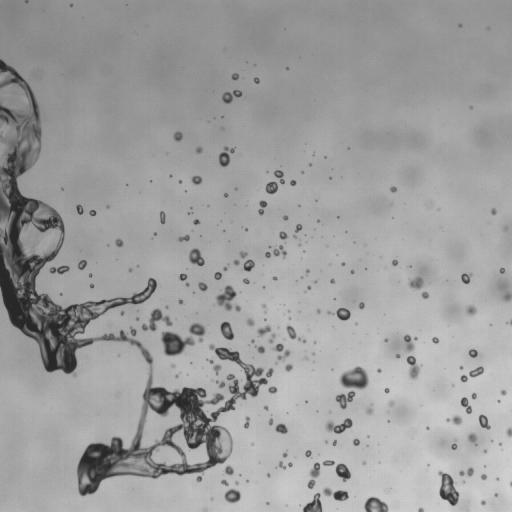droplet: (160, 322, 207, 356), (334, 366, 369, 409), (437, 470, 459, 506), (141, 307, 173, 331), (213, 285, 241, 312), (302, 491, 323, 511), (363, 496, 388, 511), (335, 462, 351, 482), (188, 248, 204, 267), (220, 321, 234, 341), (222, 90, 242, 103), (224, 488, 241, 503), (408, 276, 423, 290), (445, 415, 462, 425), (265, 181, 278, 194), (459, 466, 474, 477), (241, 259, 254, 271), (178, 273, 189, 287), (465, 304, 477, 316), (467, 432, 477, 446), (461, 272, 472, 284), (275, 423, 287, 434), (225, 80, 236, 91), (19, 96, 30, 107), (38, 120, 49, 131), (0, 122, 11, 133), (15, 174, 26, 185), (18, 185, 29, 196), (182, 222, 193, 233), (282, 238, 293, 249), (182, 240, 193, 251), (252, 253, 263, 264), (204, 262, 215, 273), (333, 267, 344, 278), (187, 273, 198, 284), (220, 274, 231, 285), (204, 275, 215, 286), (34, 283, 45, 294), (178, 286, 189, 297), (143, 299, 154, 310), (222, 310, 233, 321), (155, 320, 166, 331), (83, 326, 94, 337), (178, 328, 189, 339), (151, 329, 162, 340), (135, 330, 146, 341), (276, 330, 287, 341), (257, 334, 268, 345), (216, 336, 227, 347), (282, 337, 293, 348), (27, 338, 38, 349), (225, 339, 236, 350), (73, 347, 84, 358), (265, 348, 276, 359), (467, 357, 478, 368), (223, 359, 234, 370), (342, 361, 353, 372), (273, 363, 284, 374), (365, 369, 376, 380), (201, 403, 212, 414), (215, 415, 226, 426), (458, 422, 469, 433), (457, 436, 468, 447), (99, 477, 110, 488), (334, 479, 345, 490), (320, 495, 331, 506), (173, 131, 183, 142), (191, 175, 202, 185), (468, 348, 479, 358), (222, 465, 233, 475), (0, 219, 10, 230), (365, 403, 374, 415), (77, 260, 87, 270), (275, 460, 286, 469), (177, 234, 189, 242), (198, 282, 207, 292), (502, 291, 511, 301), (279, 231, 288, 240), (284, 363, 293, 372), (183, 178, 192, 187), (262, 192, 271, 201), (59, 212, 68, 221), (285, 226, 294, 235), (49, 258, 58, 267), (68, 261, 77, 270), (303, 275, 312, 284), (123, 302, 132, 311), (141, 314, 150, 323), (167, 324, 176, 333), (156, 341, 165, 350), (170, 353, 179, 362), (54, 368, 63, 377), (217, 371, 226, 380), (332, 371, 341, 380), (266, 376, 275, 385), (137, 382, 146, 391), (257, 384, 266, 393), (340, 385, 349, 394), (222, 390, 231, 399), (470, 409, 479, 418), (333, 416, 342, 425), (327, 430, 336, 439), (499, 432, 508, 441), (121, 440, 130, 449), (74, 449, 83, 458), (310, 453, 319, 462), (214, 462, 223, 471), (451, 473, 460, 482), (499, 477, 508, 486), (313, 483, 322, 492), (76, 204, 83, 215), (115, 238, 123, 247), (246, 317, 254, 326), (268, 386, 277, 394), (505, 265, 511, 276), (445, 505, 456, 511), (214, 272, 222, 280), (421, 291, 429, 299), (505, 427, 511, 437), (231, 73, 239, 80), (389, 186, 397, 193), (239, 251, 247, 258), (222, 263, 229, 271), (352, 438, 359, 446), (305, 450, 312, 458), (220, 479, 228, 486), (0, 70, 5, 81), (0, 143, 5, 154), (0, 156, 5, 167), (0, 300, 5, 311), (195, 146, 202, 153), (89, 209, 96, 216), (391, 259, 398, 266), (480, 473, 487, 480), (4, 58, 11, 65), (34, 95, 41, 102), (36, 104, 43, 111), (39, 132, 46, 139), (283, 175, 290, 182), (82, 206, 89, 213), (238, 257, 245, 264), (44, 260, 51, 267), (242, 270, 249, 277), (409, 272, 416, 279), (402, 279, 409, 286), (419, 285, 426, 292), (415, 288, 422, 295), (124, 291, 131, 298), (75, 297, 82, 304), (230, 297, 237, 304), (473, 302, 480, 309), (120, 303, 127, 310), (218, 304, 225, 311), (113, 305, 120, 312), (459, 307, 466, 314), (160, 309, 167, 316), (472, 312, 479, 319), (191, 316, 198, 323), (197, 318, 204, 325), (258, 321, 265, 328), (203, 325, 210, 332), (12, 326, 19, 333), (135, 326, 142, 333), (294, 328, 301, 335), (281, 330, 288, 337), (263, 331, 270, 338), (74, 332, 81, 339), (305, 338, 312, 345), (399, 339, 406, 346), (122, 340, 129, 347), (142, 342, 149, 349), (263, 343, 270, 350), (311, 344, 318, 351), (254, 351, 261, 358), (401, 351, 408, 358), (138, 355, 145, 362), (213, 356, 220, 363), (284, 356, 291, 363), (278, 360, 285, 367), (37, 362, 44, 369), (347, 363, 354, 370), (360, 363, 367, 370), (417, 369, 424, 376), (151, 381, 158, 388), (190, 382, 197, 389), (166, 385, 173, 392), (351, 385, 358, 392), (205, 393, 212, 400), (235, 396, 242, 403), (137, 397, 144, 404), (467, 398, 474, 405), (218, 399, 225, 406), (210, 404, 217, 411), (134, 409, 141, 416), (218, 411, 225, 418), (319, 422, 326, 429), (332, 432, 339, 439), (91, 437, 98, 444), (104, 439, 111, 446), (319, 464, 326, 471), (204, 467, 211, 474), (472, 470, 479, 477), (167, 471, 174, 478), (190, 471, 197, 478), (71, 473, 78, 480), (159, 473, 166, 480), (223, 473, 230, 480), (304, 474, 311, 481), (237, 476, 244, 483), (71, 481, 78, 488), (228, 482, 235, 489), (453, 483, 460, 490), (221, 485, 228, 492), (330, 485, 337, 492), (72, 487, 79, 494), (84, 492, 91, 499), (456, 497, 463, 504), (505, 318, 511, 326), (506, 388, 511, 397), (479, 506, 488, 511), (253, 77, 259, 84), (290, 179, 296, 186), (491, 208, 497, 215), (193, 219, 200, 225), (233, 259, 240, 265), (499, 266, 505, 273), (242, 278, 249, 284), (178, 298, 184, 305), (358, 302, 364, 309), (432, 337, 439, 343), (388, 400, 394, 407), (305, 268, 310, 276), (282, 214, 288, 220), (502, 225, 508, 231), (500, 389, 506, 395), (471, 392, 476, 399), (332, 439, 337, 446), (282, 450, 287, 457), (89, 283, 94, 289), (316, 308, 321, 314), (395, 353, 400, 359), (384, 387, 389, 393), (480, 500, 486, 505), (507, 286, 511, 293), (507, 421, 511, 428), (386, 507, 393, 511), (330, 278, 335, 283), (286, 309, 291, 314), (170, 363, 175, 368), (376, 368, 381, 373), (263, 405, 268, 410), (231, 68, 236, 73), (17, 70, 22, 75), (258, 76, 263, 81), (236, 77, 241, 82), (9, 82, 14, 87), (30, 86, 35, 91), (32, 91, 37, 96), (231, 95, 236, 100), (1, 102, 6, 107), (224, 102, 229, 107), (6, 104, 11, 109), (38, 114, 43, 119), (215, 114, 220, 119), (172, 127, 177, 132), (178, 127, 183, 132), (181, 134, 186, 139), (169, 136, 174, 141), (179, 138, 184, 143), (174, 140, 179, 145), (194, 142, 199, 147), (227, 143, 232, 148), (191, 145, 196, 150), (201, 147, 206, 152), (219, 147, 224, 152), (39, 148, 44, 153), (197, 152, 202, 157), (214, 152, 219, 157), (215, 161, 220, 166), (227, 161, 232, 166), (191, 171, 196, 176), (196, 171, 201, 176), (281, 174, 286, 179), (274, 177, 279, 182), (189, 181, 194, 186), (261, 182, 266, 187), (276, 182, 281, 187), (195, 183, 200, 188), (288, 184, 293, 189), (292, 184, 297, 189), (386, 189, 391, 194), (274, 190, 279, 195), (392, 191, 397, 196), (271, 192, 276, 197), (34, 195, 39, 200), (256, 204, 261, 209), (262, 206, 267, 211), (495, 207, 500, 212), (486, 209, 491, 214), (190, 215, 195, 220), (155, 216, 160, 221), (164, 216, 169, 221), (63, 225, 68, 230), (180, 231, 185, 236), (274, 233, 279, 238), (113, 234, 118, 239), (121, 237, 126, 242), (278, 238, 283, 243), (293, 238, 298, 243), (122, 240, 127, 245), (110, 241, 115, 246), (300, 244, 305, 249), (114, 245, 119, 250), (282, 245, 287, 250), (297, 246, 302, 251), (268, 248, 273, 253), (260, 250, 265, 255), (199, 252, 204, 257), (278, 252, 283, 257), (243, 255, 248, 260), (262, 256, 267, 261), (185, 258, 190, 263), (192, 262, 197, 267), (229, 262, 234, 267), (238, 263, 243, 268), (131, 265, 136, 270), (217, 267, 222, 272), (180, 268, 185, 273), (300, 270, 305, 275), (419, 273, 424, 278), (34, 275, 39, 280), (153, 275, 158, 280), (469, 276, 474, 281), (88, 278, 93, 283), (155, 280, 160, 285), (459, 281, 464, 286), (142, 282, 147, 287), (309, 282, 314, 287), (154, 286, 159, 291), (232, 286, 237, 291), (137, 287, 142, 292), (195, 287, 200, 292), (203, 289, 208, 294), (219, 289, 224, 294), (427, 290, 432, 295), (500, 290, 505, 295), (104, 295, 109, 300), (95, 296, 100, 301), (423, 297, 428, 302), (212, 298, 217, 303), (261, 298, 266, 303), (70, 299, 75, 304), (354, 300, 359, 305), (136, 302, 141, 307), (265, 302, 270, 307), (61, 304, 66, 309), (284, 304, 289, 309), (230, 306, 235, 311), (108, 307, 113, 312), (258, 307, 263, 312), (331, 307, 336, 312), (320, 309, 325, 314), (288, 311, 293, 316), (349, 312, 354, 317), (332, 313, 337, 318), (98, 314, 103, 319), (168, 316, 173, 321), (224, 317, 229, 322), (337, 318, 342, 323), (88, 319, 93, 324), (241, 319, 246, 324), (341, 319, 346, 324), (144, 320, 149, 325), (216, 321, 221, 326), (288, 321, 293, 326), (229, 322, 234, 327), (185, 323, 190, 328), (291, 323, 296, 328), (84, 324, 89, 329), (215, 324, 220, 329), (270, 327, 275, 332), (146, 328, 151, 333), (216, 328, 221, 333), (231, 328, 236, 333), (105, 329, 110, 334), (98, 331, 103, 336), (400, 331, 405, 336), (114, 332, 119, 337), (126, 333, 131, 338), (201, 333, 206, 338), (22, 334, 27, 339), (132, 335, 137, 340), (292, 337, 297, 342), (102, 339, 107, 344), (106, 339, 111, 344), (92, 340, 97, 345), (272, 340, 277, 345), (298, 341, 303, 346), (84, 344, 89, 349), (132, 344, 137, 349), (468, 344, 473, 349), (282, 345, 287, 350), (252, 347, 257, 352), (279, 350, 284, 355), (406, 351, 411, 356), (238, 354, 243, 359), (308, 354, 313, 359), (151, 359, 156, 364), (143, 361, 148, 366), (208, 363, 213, 368), (253, 363, 258, 368), (406, 363, 411, 368), (73, 367, 78, 372), (173, 368, 178, 373), (289, 368, 294, 373), (464, 371, 469, 376), (66, 372, 71, 377), (260, 372, 265, 377), (212, 374, 217, 379), (476, 374, 481, 379), (143, 375, 148, 380), (265, 376, 270, 381), (408, 377, 413, 382), (502, 385, 507, 390), (505, 390, 510, 395), (245, 392, 250, 397), (270, 392, 275, 397), (475, 393, 480, 398), (498, 394, 503, 399), (330, 395, 335, 400), (351, 395, 356, 400), (456, 396, 461, 401), (334, 401, 339, 406), (345, 401, 350, 406), (456, 401, 461, 406), (227, 408, 232, 413), (205, 412, 210, 417), (362, 412, 367, 417), (367, 414, 372, 419), (448, 414, 453, 419), (264, 416, 269, 421), (350, 417, 355, 422), (241, 418, 246, 423), (248, 419, 253, 424), (280, 419, 285, 424), (487, 420, 492, 425), (272, 421, 277, 426), (475, 422, 480, 427), (284, 423, 289, 428), (350, 424, 355, 429), (344, 427, 349, 432), (466, 429, 471, 434), (276, 431, 281, 436), (502, 431, 507, 436), (114, 432, 119, 437), (230, 433, 235, 438), (463, 434, 468, 439), (327, 439, 332, 444), (493, 439, 498, 444), (348, 440, 353, 445), (469, 441, 474, 446), (231, 443, 236, 448), (286, 450, 291, 455), (310, 451, 315, 456), (323, 455, 328, 460), (317, 458, 322, 463), (273, 460, 278, 465), (282, 460, 287, 465), (331, 463, 336, 468), (308, 464, 313, 469), (277, 466, 282, 471), (347, 466, 352, 471), (462, 467, 467, 472), (232, 469, 237, 474), (482, 469, 487, 474), (332, 471, 337, 476), (183, 472, 188, 477), (121, 474, 126, 479), (128, 474, 133, 479), (137, 475, 142, 480), (436, 475, 441, 480), (147, 476, 152, 481), (313, 476, 318, 481), (337, 476, 342, 481), (345, 477, 350, 482), (303, 479, 308, 484), (436, 482, 441, 487), (225, 485, 230, 490), (233, 485, 238, 490), (434, 489, 439, 494), (371, 492, 376, 497), (239, 493, 244, 498), (435, 493, 440, 498), (328, 494, 333, 499), (220, 495, 225, 500), (457, 495, 462, 500), (362, 496, 367, 501), (379, 496, 384, 501), (307, 497, 312, 502), (335, 499, 340, 504), (443, 499, 448, 504), (234, 500, 239, 505), (301, 501, 306, 506), (484, 502, 489, 507), (320, 503, 325, 508), (312, 279, 318, 283), (303, 356, 309, 360), (324, 439, 328, 445), (0, 295, 3, 302), (350, 269, 354, 274), (272, 276, 277, 280), (120, 310, 124, 315), (288, 462, 292, 467), (235, 480, 239, 485), (494, 492, 498, 497), (418, 507, 423, 511), (69, 3, 73, 7), (458, 23, 462, 27), (469, 105, 473, 109), (178, 179, 182, 183), (224, 193, 228, 197), (244, 227, 248, 231), (341, 262, 345, 266), (128, 268, 132, 272), (135, 317, 139, 321), (384, 338, 388, 342), (459, 365, 463, 369), (498, 442, 502, 446), (483, 449, 487, 453), (362, 461, 366, 465), (266, 473, 270, 477), (495, 477, 499, 481), (461, 479, 465, 483), (106, 204, 109, 209), (282, 337, 287, 340), (508, 298, 511, 303), (508, 435, 511, 440), (298, 508, 303, 511), (361, 508, 366, 511), (413, 508, 418, 511), (422, 508, 427, 511), (220, 127, 224, 130), (300, 171, 304, 174), (297, 204, 301, 207), (153, 232, 157, 235), (106, 243, 109, 247), (89, 273, 92, 277), (262, 285, 265, 289), (192, 291, 195, 295), (165, 305, 168, 309), (288, 316, 291, 320), (354, 322, 358, 325), (313, 340, 316, 344), (311, 352, 315, 355), (189, 361, 193, 364), (426, 426, 429, 430), (427, 463, 430, 467), (245, 479, 249, 482), (210, 497, 213, 501), (266, 501, 269, 505), (203, 508, 207, 511), (68, 0, 73, 2), (25, 0, 28, 3), (486, 26, 489, 29), (286, 67, 289, 70), (308, 163, 311, 166), (169, 174, 172, 177), (329, 176, 332, 179), (234, 187, 237, 190), (136, 264, 139, 267), (364, 267, 367, 270), (300, 276, 303, 279), (59, 292, 62, 295), (489, 323, 492, 326), (307, 328, 310, 331), (117, 354, 120, 357), (312, 360, 315, 363), (451, 384, 454, 387), (305, 400, 308, 403), (497, 400, 500, 403), (328, 410, 331, 413), (387, 420, 390, 423), (366, 435, 369, 438), (366, 444, 369, 447), (238, 473, 241, 476), (66, 4, 69, 7), (71, 5, 74, 8), (458, 20, 461, 23), (461, 23, 464, 26), (457, 26, 460, 29), (288, 65, 291, 68), (285, 69, 288, 72), (235, 70, 238, 73), (255, 74, 258, 77), (228, 75, 231, 78), (238, 75, 241, 78), (232, 79, 235, 82), (253, 82, 256, 85), (229, 90, 232, 93), (241, 92, 244, 95), (220, 112, 223, 115), (223, 114, 226, 117), (233, 148, 236, 151), (309, 151, 312, 154), (314, 152, 317, 155), (323, 152, 326, 155), (326, 155, 329, 158), (321, 157, 324, 160), (311, 162, 314, 165), (305, 163, 308, 166), (278, 167, 281, 170), (300, 167, 303, 170), (272, 168, 275, 171), (303, 170, 306, 173), (171, 172, 174, 175), (329, 173, 332, 176), (166, 174, 169, 177), (148, 176, 151, 179), (325, 176, 328, 179), (331, 176, 334, 179), (292, 177, 295, 180), (181, 179, 184, 182), (328, 179, 331, 182), (125, 180, 128, 183), (146, 180, 149, 183), (151, 180, 154, 183), (175, 180, 178, 183), (295, 180, 298, 183), (127, 183, 130, 186), (178, 183, 181, 186), (394, 184, 397, 187), (124, 185, 127, 188), (57, 187, 60, 190), (63, 187, 66, 190), (396, 187, 399, 190), (226, 190, 229, 193), (220, 193, 223, 196), (226, 195, 229, 198), (311, 198, 314, 201), (317, 199, 320, 202), (76, 201, 79, 204), (298, 201, 301, 204), (188, 203, 191, 206), (296, 206, 299, 209), (73, 207, 76, 210), (94, 208, 97, 211), (157, 209, 160, 212), (188, 209, 191, 212), (95, 211, 98, 214), (255, 211, 258, 214), (184, 212, 187, 215), (284, 212, 287, 215), (336, 212, 339, 215), (280, 213, 283, 216), (91, 215, 94, 218), (287, 215, 290, 218), (339, 215, 342, 218), (388, 216, 391, 219), (197, 217, 200, 220), (334, 217, 337, 220), (313, 218, 316, 221), (284, 219, 287, 222), (296, 220, 299, 223), (319, 220, 322, 223), (299, 221, 302, 224), (161, 223, 164, 226), (195, 223, 198, 226), (293, 226, 296, 229), (224, 227, 227, 230), (241, 227, 244, 230), (247, 227, 250, 230), (219, 228, 222, 231), (283, 229, 286, 232), (298, 229, 301, 232), (244, 230, 247, 233), (156, 231, 159, 234), (222, 231, 225, 234), (152, 235, 155, 238), (63, 236, 66, 239), (188, 237, 191, 240), (62, 240, 65, 243), (300, 240, 303, 243), (242, 249, 245, 252), (301, 252, 304, 255), (284, 254, 287, 257), (82, 256, 85, 259), (393, 256, 396, 259), (251, 258, 254, 261), (396, 258, 399, 261), (76, 259, 79, 262), (340, 259, 343, 262), (389, 259, 392, 262), (203, 260, 206, 263), (407, 262, 410, 265), (224, 263, 227, 266), (344, 263, 347, 266), (396, 263, 399, 266), (201, 264, 204, 267), (364, 264, 367, 267), (411, 264, 414, 267), (84, 265, 87, 268), (250, 267, 253, 270), (308, 267, 311, 270), (361, 267, 364, 270), (366, 267, 369, 270), (408, 267, 411, 270), (77, 268, 80, 271), (125, 268, 128, 271), (504, 268, 507, 271), (347, 269, 350, 272), (353, 269, 356, 272), (496, 269, 499, 272), (461, 270, 464, 273), (63, 271, 66, 274), (128, 271, 131, 274), (307, 272, 310, 275), (501, 272, 504, 275), (176, 273, 179, 276), (211, 273, 214, 276), (273, 273, 276, 276), (350, 273, 353, 276), (85, 274, 88, 277), (91, 274, 94, 277), (220, 275, 223, 278), (269, 276, 272, 279), (297, 277, 300, 280), (312, 277, 315, 280), (458, 277, 461, 280), (213, 278, 216, 281), (327, 278, 330, 281), (333, 278, 336, 281), (199, 279, 202, 282), (271, 279, 274, 282), (242, 282, 245, 285), (330, 282, 333, 285), (93, 284, 96, 287), (259, 284, 262, 287), (184, 285, 187, 288), (87, 286, 90, 289), (264, 286, 267, 289), (304, 286, 307, 289), (61, 290, 64, 293), (189, 292, 192, 295), (332, 294, 335, 297), (111, 295, 114, 298), (335, 296, 338, 299), (145, 298, 148, 301), (175, 300, 178, 303), (182, 300, 185, 303), (363, 302, 366, 305), (167, 303, 170, 306), (279, 304, 282, 307), (345, 306, 348, 309), (362, 306, 365, 309), (239, 309, 242, 312), (313, 309, 316, 312), (122, 313, 125, 316), (285, 313, 288, 316), (316, 313, 319, 316), (263, 314, 266, 317), (132, 316, 135, 319), (416, 334, 419, 337), (431, 334, 434, 337), (435, 334, 438, 337), (383, 335, 386, 338), (387, 339, 390, 342), (429, 339, 432, 342), (247, 340, 250, 343), (315, 340, 318, 343), (304, 341, 307, 344), (383, 341, 386, 344), (251, 342, 254, 345), (432, 342, 435, 345), (435, 342, 438, 345), (473, 346, 476, 349), (395, 350, 398, 353), (465, 350, 468, 353), (392, 354, 395, 357), (469, 356, 472, 359), (396, 357, 399, 360), (190, 363, 193, 366), (456, 366, 459, 369), (374, 367, 377, 370), (380, 367, 383, 370), (212, 370, 215, 373), (271, 372, 274, 375), (178, 373, 181, 376), (457, 375, 460, 378), (458, 379, 461, 382), (274, 384, 277, 387), (384, 384, 387, 387), (201, 385, 204, 388), (388, 388, 391, 391), (381, 389, 384, 392), (474, 390, 477, 393), (387, 391, 390, 394), (305, 397, 308, 400), (301, 400, 304, 403), (494, 400, 497, 403), (263, 402, 266, 405), (305, 402, 308, 405), (260, 405, 263, 408), (267, 406, 270, 409), (470, 406, 473, 409), (262, 408, 265, 411), (482, 412, 485, 415), (247, 414, 250, 417), (387, 416, 390, 419), (443, 416, 446, 419), (384, 420, 387, 423), (476, 420, 479, 423), (387, 422, 390, 425), (428, 425, 431, 428), (243, 427, 246, 430), (423, 427, 426, 430), (227, 428, 230, 431), (366, 431, 369, 434), (369, 434, 372, 437), (358, 438, 361, 441), (487, 439, 490, 442), (498, 439, 501, 442), (455, 441, 458, 444), (322, 442, 325, 445), (358, 442, 361, 445), (501, 442, 504, 445), (448, 444, 451, 447), (475, 445, 478, 448), (498, 445, 501, 448), (483, 446, 486, 449), (303, 448, 306, 451), (480, 448, 483, 451), (231, 449, 234, 452), (282, 449, 285, 452), (486, 449, 489, 452), (481, 451, 484, 454), (303, 455, 306, 458), (329, 457, 332, 460), (290, 460, 293, 463), (426, 460, 429, 463), (483, 461, 486, 464), (285, 464, 288, 467), (363, 464, 366, 467), (424, 465, 427, 468), (428, 465, 431, 468), (485, 465, 488, 468), (442, 470, 445, 473), (269, 472, 272, 475), (241, 473, 244, 476), (264, 474, 267, 477), (493, 475, 496, 478), (246, 476, 249, 479), (485, 476, 488, 479), (498, 476, 501, 479), (248, 479, 251, 482), (481, 479, 484, 482), (494, 479, 497, 482), (506, 482, 509, 485), (305, 486, 308, 489), (347, 492, 350, 495), (491, 492, 494, 495), (497, 493, 500, 496), (492, 495, 495, 498), (482, 497, 485, 500), (266, 498, 269, 501), (478, 499, 481, 502), (265, 504, 268, 507), (482, 504, 485, 507), (220, 116, 223, 118), (266, 170, 268, 173), (149, 180, 152, 182), (61, 187, 63, 190), (184, 190, 187, 192), (315, 199, 318, 201), (207, 204, 209, 207), (437, 208, 440, 210), (317, 219, 319, 222), (222, 229, 225, 231), (345, 230, 347, 233), (408, 265, 411, 267), (333, 297, 335, 300), (298, 310, 300, 313), (283, 312, 285, 315), (264, 318, 266, 321), (277, 326, 279, 329), (490, 440, 493, 442), (251, 442, 253, 445), (316, 453, 319, 455), (483, 465, 486, 467), (466, 509, 469, 511), (213, 117, 215, 119), (347, 147, 349, 149), (324, 156, 326, 158), (337, 216, 339, 218), (191, 229, 193, 231), (304, 234, 306, 236), (228, 240, 230, 242), (353, 241, 355, 243), (303, 250, 305, 252), (239, 291, 241, 293), (331, 368, 333, 370), (186, 373, 188, 375), (316, 410, 318, 412), (286, 412, 288, 414), (258, 461, 260, 463), (378, 461, 380, 463), (285, 504, 287, 506), (21, 0, 24, 1), (27, 0, 30, 1), (126, 184, 127, 186), (305, 241, 307, 242), (284, 242, 286, 243), (336, 253, 337, 255), (283, 304, 284, 306), (299, 504, 300, 506), (200, 235, 201, 236)
ligament: (257, 324, 292, 365), (403, 334, 422, 380), (307, 459, 334, 489), (325, 417, 353, 433), (322, 487, 349, 502), (286, 323, 306, 343), (460, 366, 483, 382), (218, 146, 235, 167), (326, 307, 350, 321), (205, 356, 222, 375), (246, 339, 265, 354), (292, 224, 302, 246), (460, 397, 472, 414), (49, 265, 69, 274), (478, 414, 490, 429), (273, 170, 284, 185), (258, 200, 267, 215), (158, 211, 165, 224), (243, 416, 250, 428), (451, 438, 457, 450), (261, 303, 267, 314), (304, 285, 311, 293), (268, 414, 273, 425), (174, 371, 181, 378), (509, 480, 511, 487), (312, 152, 315, 156), (201, 367, 204, 368)
